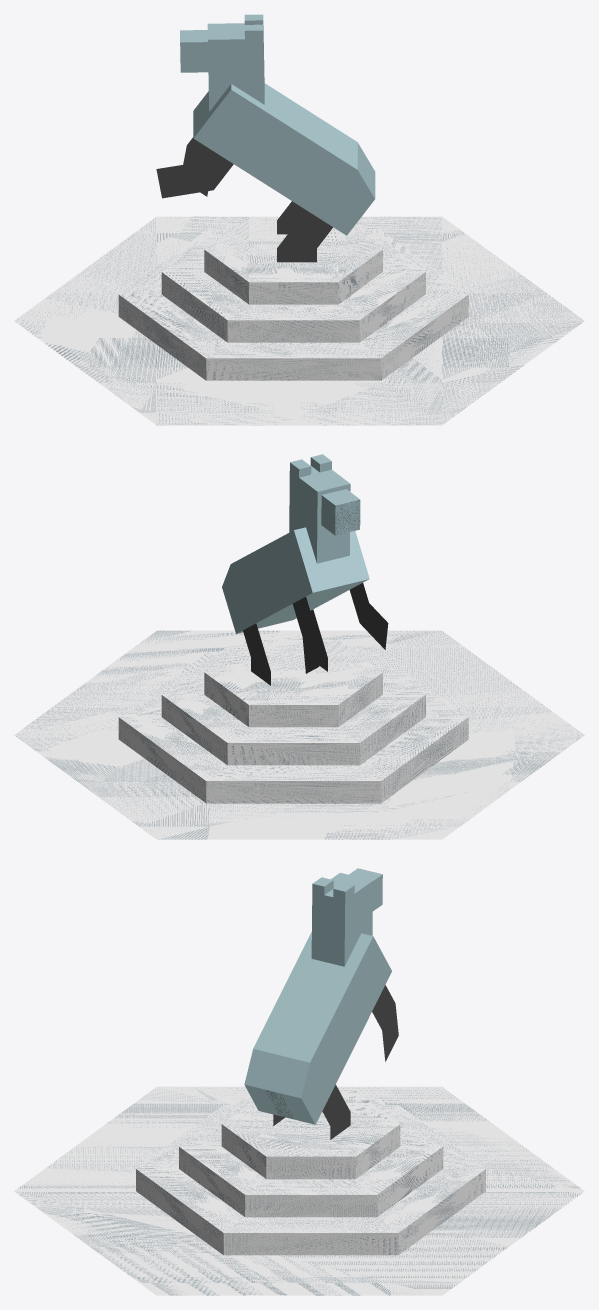
The model's file is HorseStatue2.fbx.
3 renders of one model, top to bottom at view 1: azimuth 30°, elevation 25°; view 2: azimuth 150°, elevation 25°; view 3: azimuth 270°, elevation 25°, orthographic.
Visible parts, largest first — view 1: Model, Group4, Group3, Group2; view 2: Model, Group4, Group3, Group2; view 3: Model, Group4, Group3, Group2.
Part boxes in pixels (x1,y1,x2,y2): Model: [14, 216, 584, 425]; Group4: [118, 217, 468, 380]; Group3: [156, 83, 375, 262]; Group2: [180, 14, 264, 111]; Model: [14, 630, 584, 839]; Group4: [118, 639, 468, 803]; Group3: [222, 527, 388, 685]; Group2: [289, 454, 360, 563]; Model: [14, 1086, 584, 1295]; Group4: [136, 1091, 485, 1255]; Group3: [244, 931, 398, 1139]; Group2: [311, 868, 382, 966].
Bounding box in the file's own units: 0.8 × 0.523 × 0.9238.
